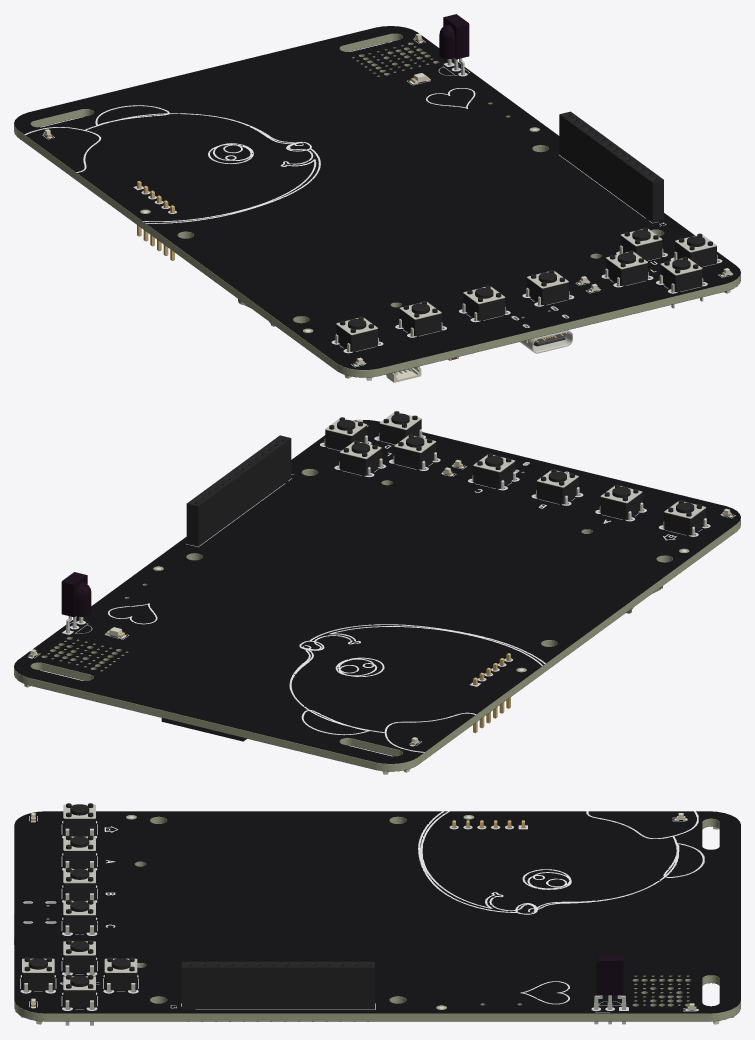
Rendered from falera-badge.glb.
3 renders of one model, top to bottom at view 1: azimuth 30°, elevation 25°; view 2: azimuth 150°, elevation 25°; view 3: azimuth 270°, elevation 25°, orthographic. The views are drawn at different scales.
Parts seen in each view (by area): view 1: =>[0:1:1:3]; view 2: =>[0:1:1:3]; view 3: =>[0:1:1:3].
Part boxes in pixels (<box>): =>[0:1:1:3]: <box>14,14,740,382</box>; =>[0:1:1:3]: <box>14,411,740,774</box>; =>[0:1:1:3]: <box>14,803,740,1025</box>.
Bounding box in the file's own units: 0.088 × 0.0206 × 0.1336.
1 material, 1 textured.
